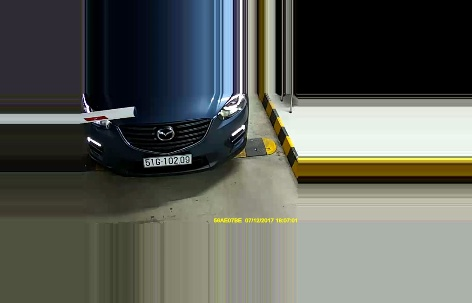plate: (140, 153, 188, 168)
